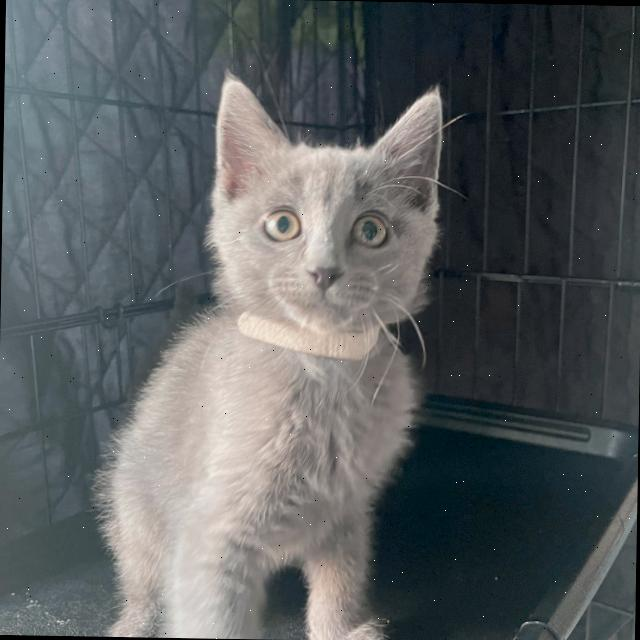russian_blue_cat: (173, 57, 495, 371)
